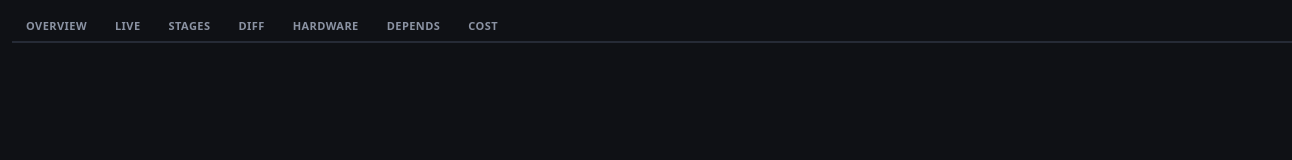
Test: JobDetailTabs tab bar › starts with no mounted panel in inspector mode and mounts only the selected panel
The width and height of the screenshot is (1292, 160).
Expected: the text "No usage recorded yet." is not shown
Click the button "COST".
click(483, 27)  # box [454, 12, 512, 42]
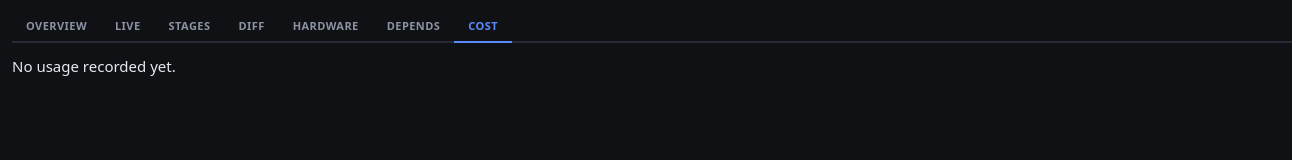
Result: the text "No usage recorded yet." is shown at [12, 56, 176, 76]
Click the button "LIVE".
click(128, 27)  # box [101, 12, 155, 42]
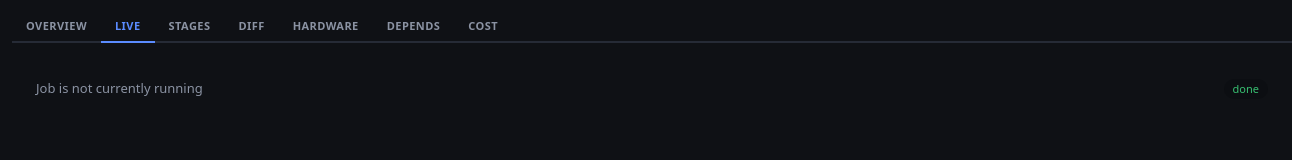
Result: the text "No usage recorded yet." is gone
Result: the text "Job is not currently running" is shown at [36, 79, 203, 98]
